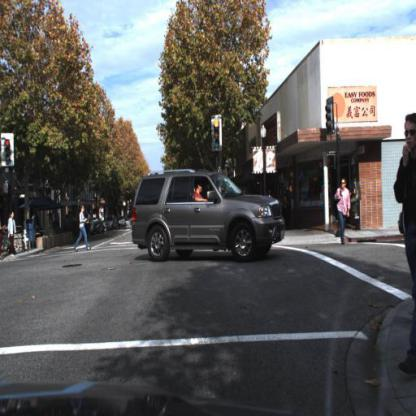car: (131, 168, 289, 271), (395, 183, 416, 249)
pedestrian: (387, 105, 416, 380), (331, 176, 356, 252), (74, 198, 95, 254), (6, 211, 24, 262)
trafficLight: (1, 129, 16, 170), (211, 111, 225, 149)
